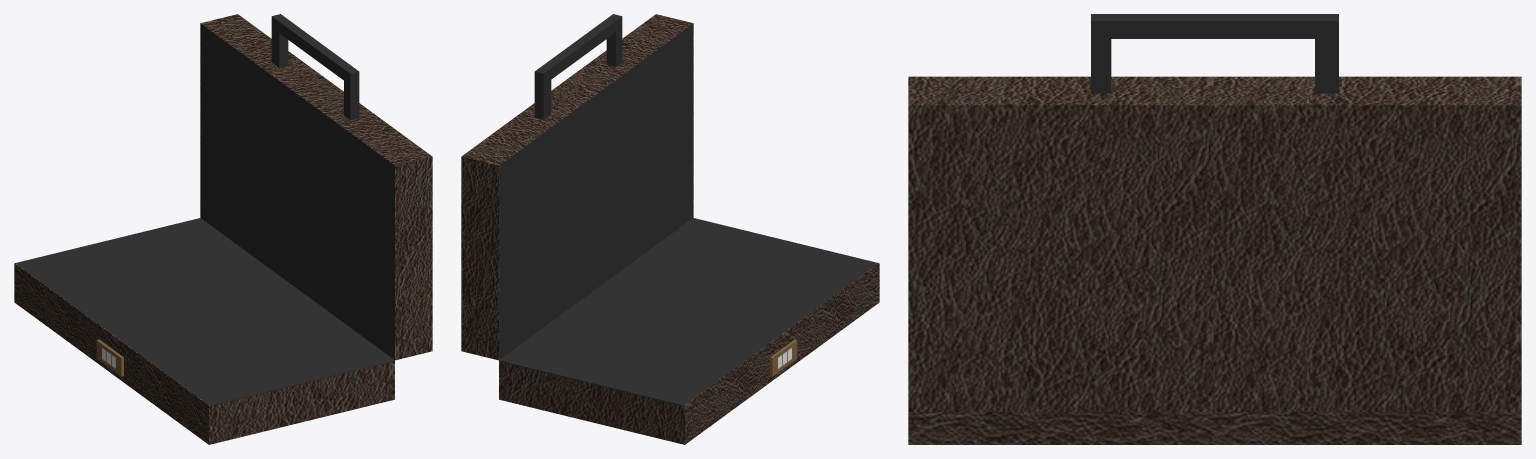
The model's file is Brief Case.fbx.
The picture shows the model from 3 angles, left to right: view 1: azimuth 30°, elevation 25°; view 2: azimuth 150°, elevation 25°; view 3: azimuth 270°, elevation 25°; orthographic projection. The views are drawn at different scales.
Visible parts, largest first — view 1: Cube, Cube.003, Cube.001, Cube.002; view 2: Cube, Cube.003, Cube.001, Cube.002; view 3: Cube, Cube.003, Cube.001.
Part boxes in pixels (left/top/right/bottom): Cube: left=200, top=14, right=432, bottom=360; Cube.003: left=14, top=218, right=394, bottom=444; Cube.001: left=271, top=14, right=359, bottom=119; Cube.002: left=96, top=339, right=123, bottom=376; Cube: left=461, top=14, right=693, bottom=360; Cube.003: left=499, top=218, right=879, bottom=444; Cube.001: left=534, top=14, right=622, bottom=119; Cube.002: left=770, top=339, right=797, bottom=376; Cube: left=908, top=76, right=1521, bottom=411; Cube.003: left=908, top=412, right=1521, bottom=444; Cube.001: left=1091, top=14, right=1338, bottom=93.
Size of the model in its own units: 243 by 288 by 362.
